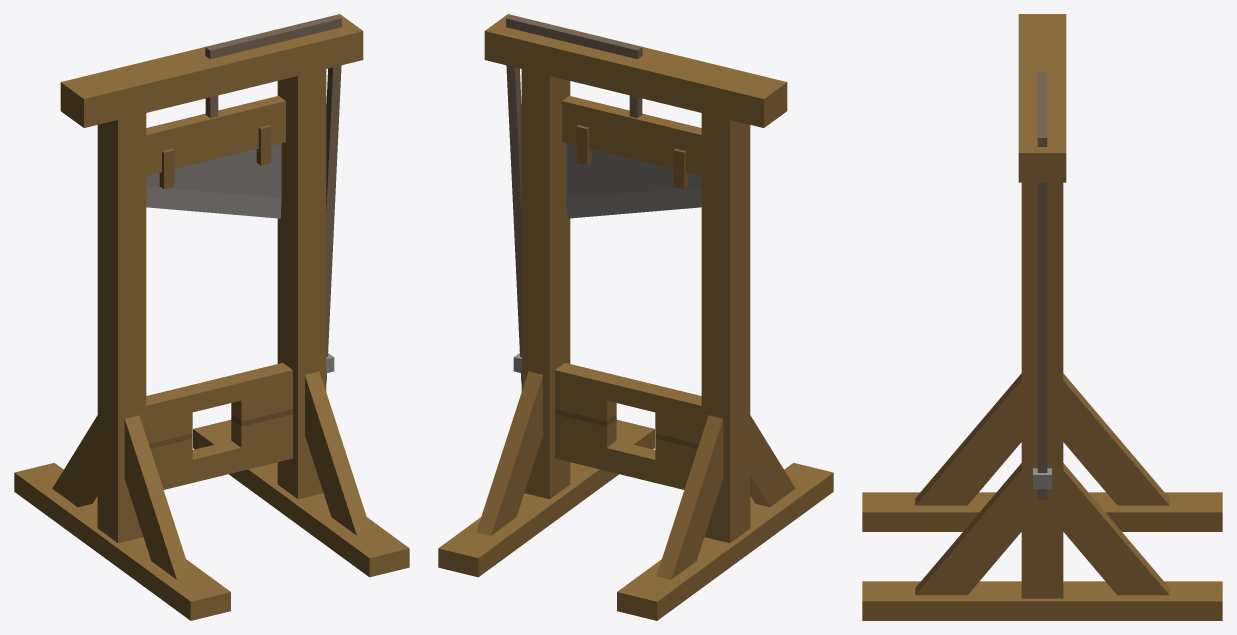
Rendered from Guillotine.gltf.
3 views of the same model, side by side, from view 1: azimuth 30°, elevation 25°; view 2: azimuth 150°, elevation 25°; view 3: azimuth 270°, elevation 25° (orthographic). The views are drawn at different scales.
Parts seen in each view (by area): view 1: SF_Prop_Guillotine_01; view 2: SF_Prop_Guillotine_01; view 3: SF_Prop_Guillotine_01.
Boxes of the visible parts, x1=… form: SF_Prop_Guillotine_01: x1=14, y1=14, x2=409, y2=620; SF_Prop_Guillotine_01: x1=438, y1=14, x2=833, y2=620; SF_Prop_Guillotine_01: x1=862, y1=14, x2=1222, y2=620.
Bounding box in the file's own units: 0.0436 × 0.0719 × 0.0477.
1 material, 1 textured.
